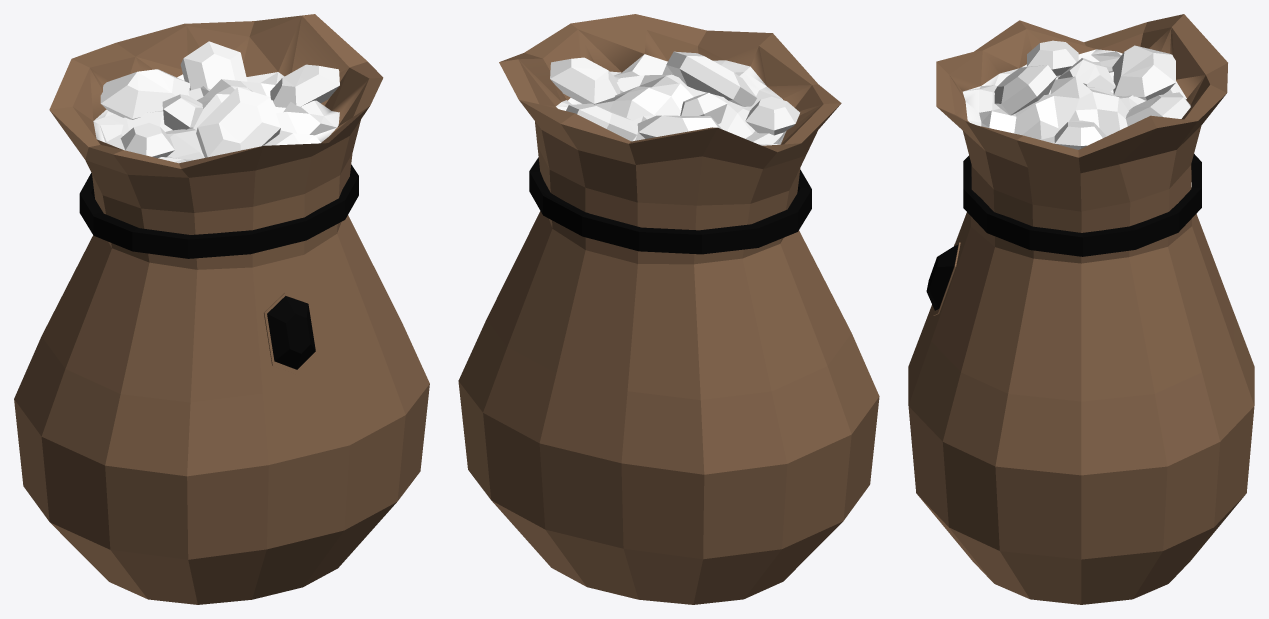
File: PP_Money_Bag_05.fbx
3 views of the same model, side by side, from view 1: azimuth 30°, elevation 25°; view 2: azimuth 150°, elevation 25°; view 3: azimuth 270°, elevation 25° (orthographic).
Visible parts, largest first — view 1: PP_Money_Bag_05; view 2: PP_Money_Bag_05; view 3: PP_Money_Bag_05.
Boxes of the visible parts, x1=… form: PP_Money_Bag_05: x1=14, y1=14, x2=429, y2=604; PP_Money_Bag_05: x1=458, y1=14, x2=879, y2=604; PP_Money_Bag_05: x1=908, y1=14, x2=1254, y2=604.
Size of the model in its own units: 57.18 by 72.98 by 46.84.
